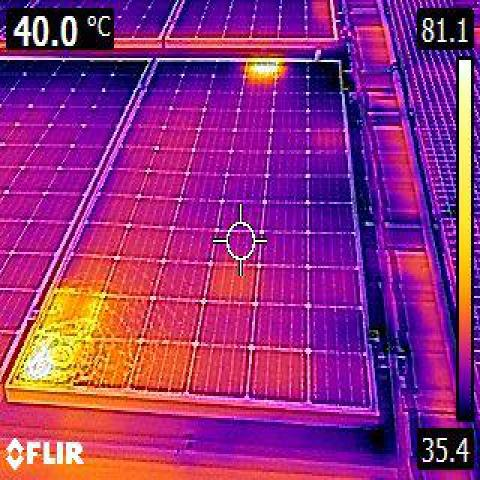fault: (22, 337, 79, 386), (238, 59, 282, 82)
